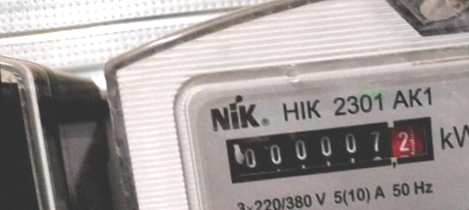0: (241, 144, 258, 169), (318, 133, 334, 158), (267, 141, 282, 165), (293, 137, 308, 161), (343, 130, 358, 154)
2: (396, 129, 411, 153)
7: (368, 127, 383, 152)
screen: (213, 104, 446, 193)
